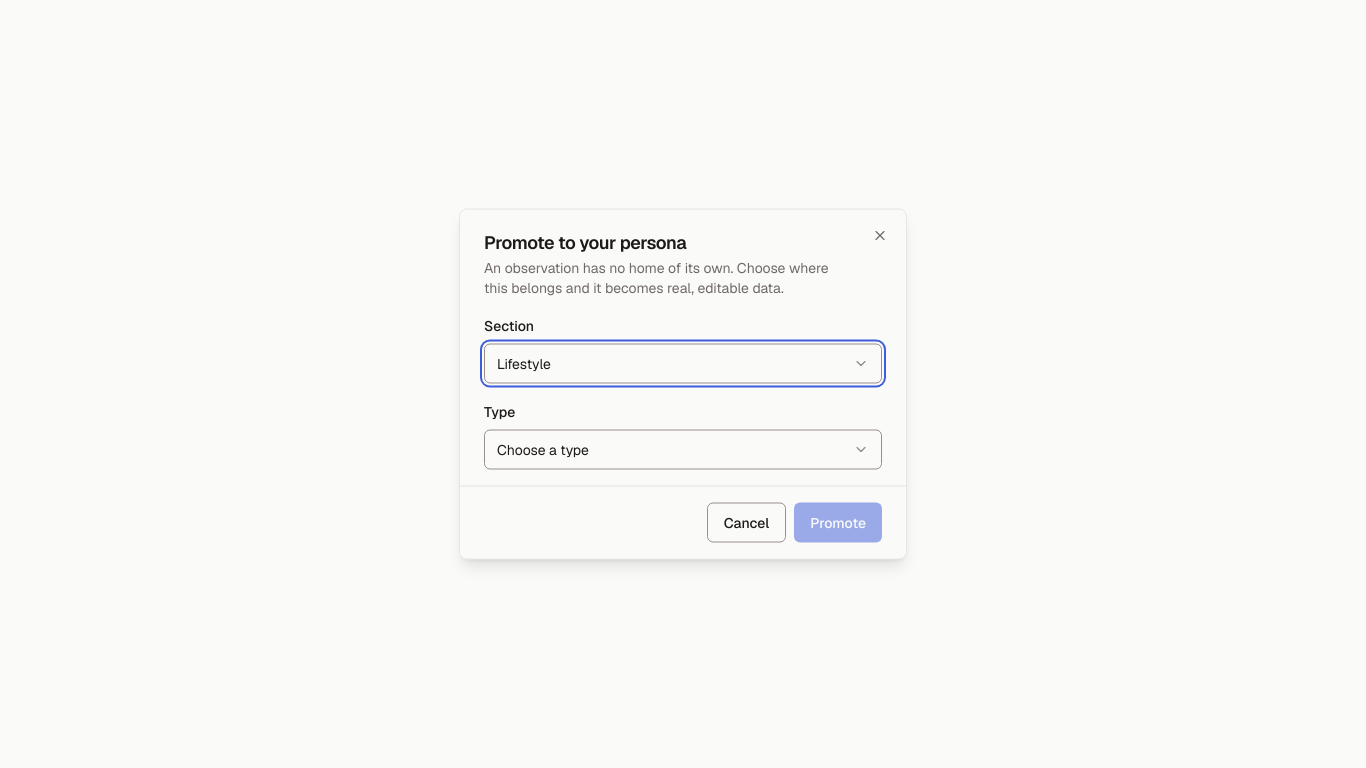
Test case: a Select inside the real Dialog › names a section with several types unchosen, and will not promote until one is picked
Expected: the button "Promote" is disabled, top-left (794, 502), bottom-right (882, 542)
What coordinates should you click on to do the following:
click the dropdown labelled "Choose a type"
I would click on:
 (543, 450)
Its box is top-left (484, 430), bottom-right (882, 470).
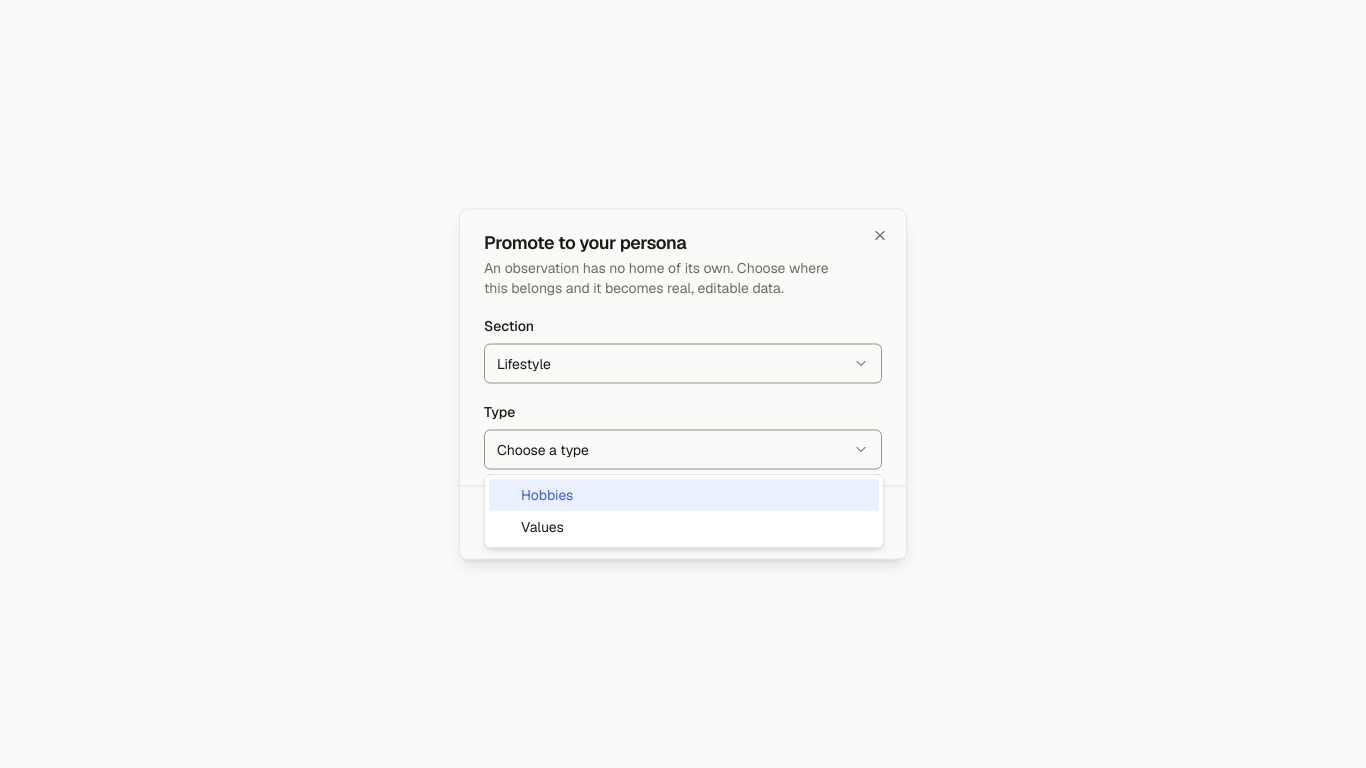
What coordinates should you click on to do the following:
click the option "Values"
I would click on:
 (542, 527)
Its box is top-left (521, 518), bottom-right (564, 536).
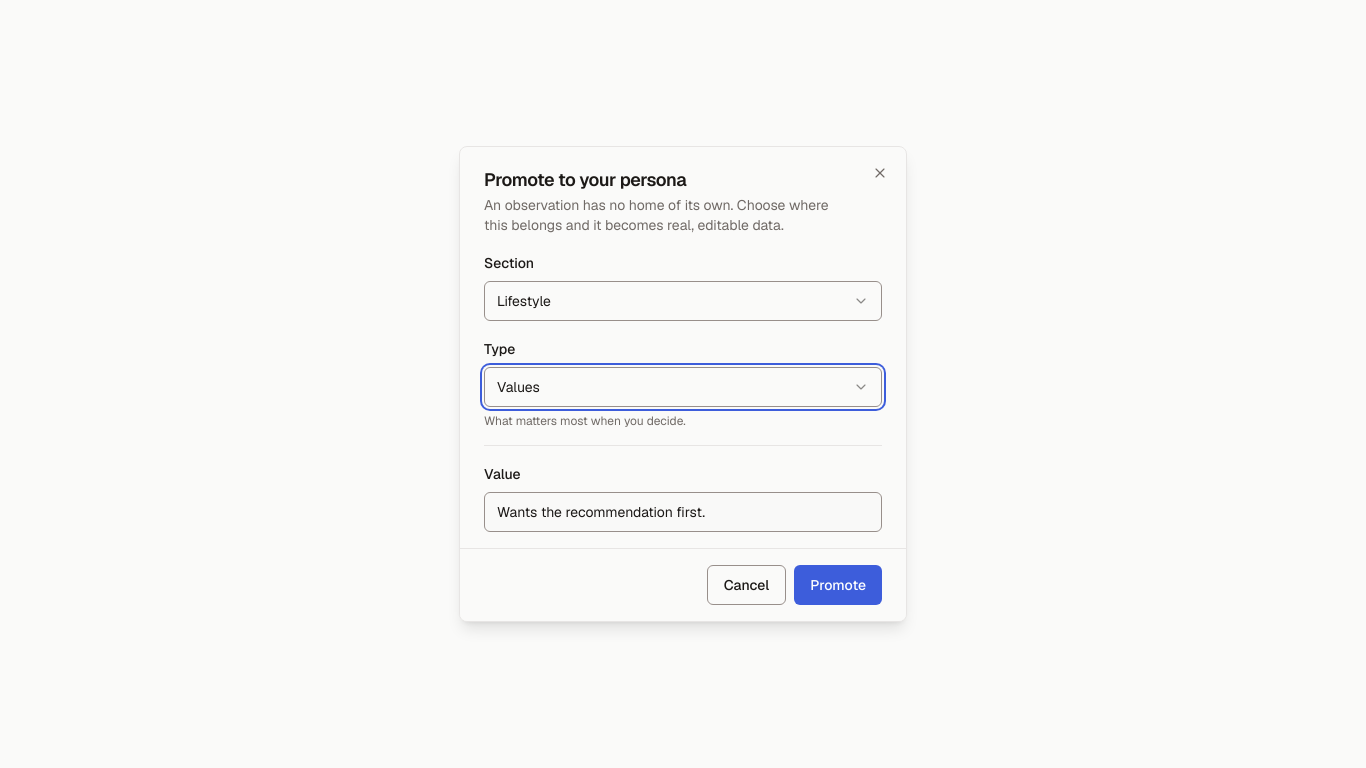
Expected: the field labelled "Value" holds "Wants the recommendation first.", top-left (484, 492), bottom-right (882, 532)
Expected: the button "Promote" is enabled, top-left (794, 565), bottom-right (882, 605)
